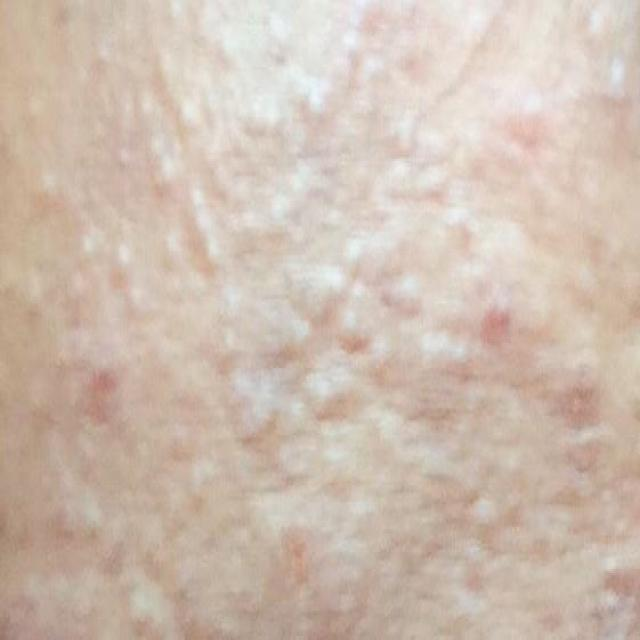fungal: (33, 12, 628, 630)
